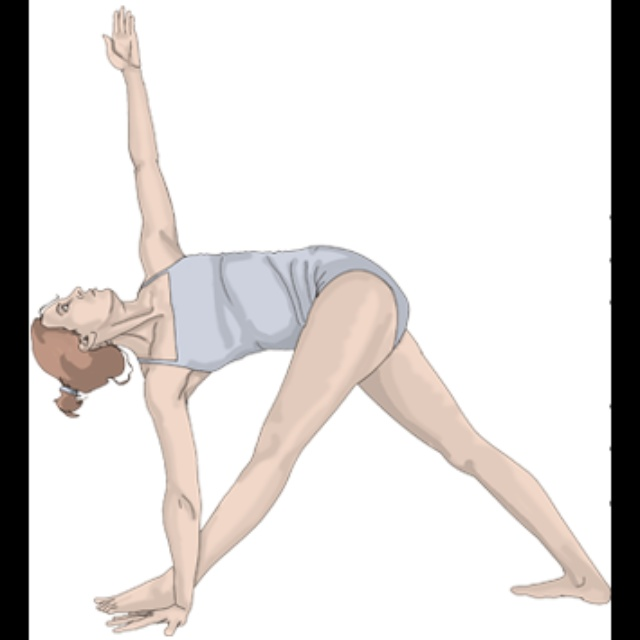Triangle_Pose: (28, 1, 611, 637)
